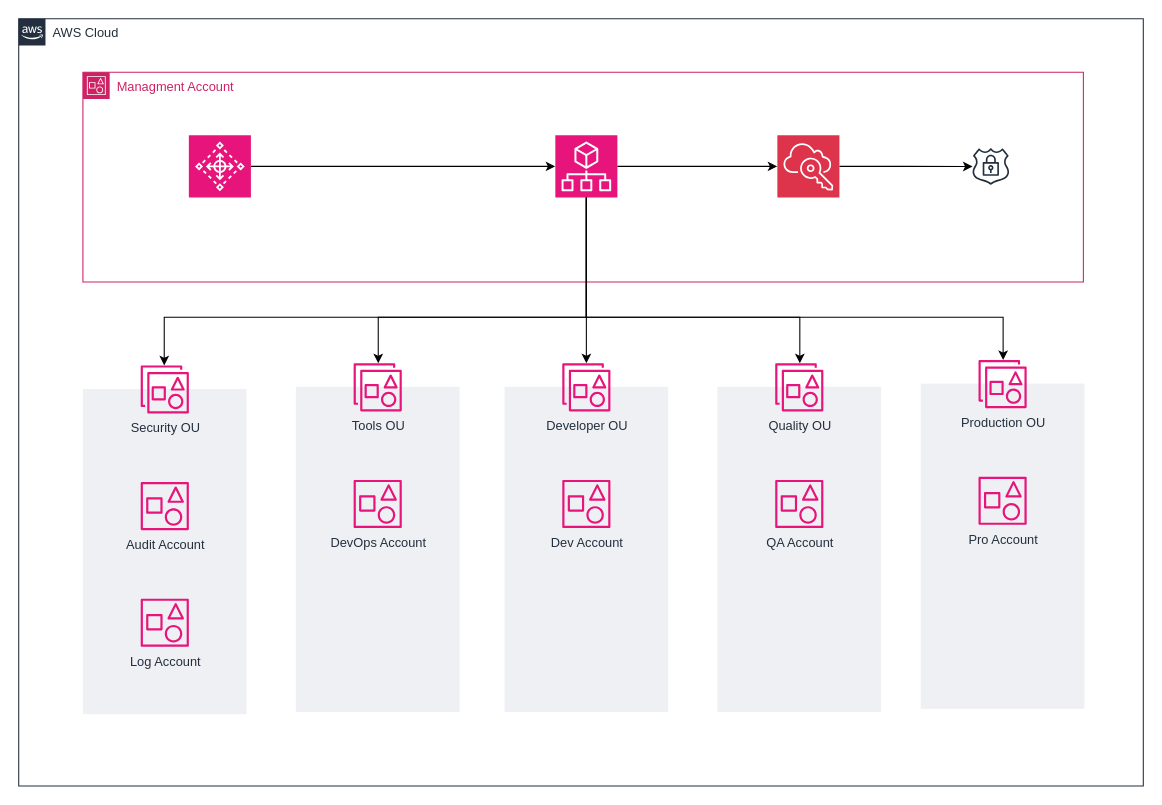
The diagram is 1162 pixels wide and 805 high, and some of its shapes have lost their labels. Each missing label, with the centre of its shape:
Control Tower: pixel 219 165
Federation via third-party provider: pixel 990 166
Organizations: pixel 585 165
Single Sing-On: pixel 807 165
